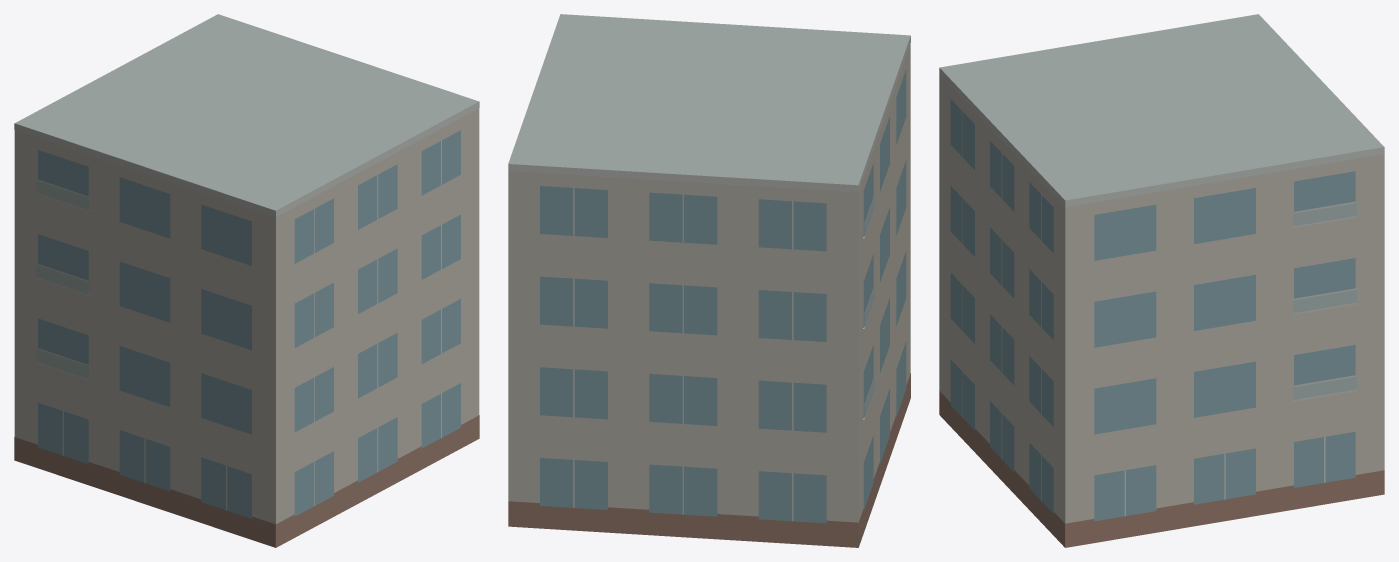
Rendered from survey-upis-32749600.glb.
The picture shows the model from 3 angles, left to right: view 1: azimuth 30°, elevation 25°; view 2: azimuth 150°, elevation 25°; view 3: azimuth 270°, elevation 25°; orthographic projection. The views are drawn at different scales.
Visible parts, largest first — view 1: survey-upis-32749600.tmp; view 2: survey-upis-32749600.tmp; view 3: survey-upis-32749600.tmp.
Boxes of the visible parts, x1,y1,x2,y2 form: survey-upis-32749600.tmp: [14, 14, 479, 547]; survey-upis-32749600.tmp: [508, 14, 910, 547]; survey-upis-32749600.tmp: [939, 14, 1384, 547].
Bounding box in the file's own units: 14.41 × 12.5 × 14.53.
